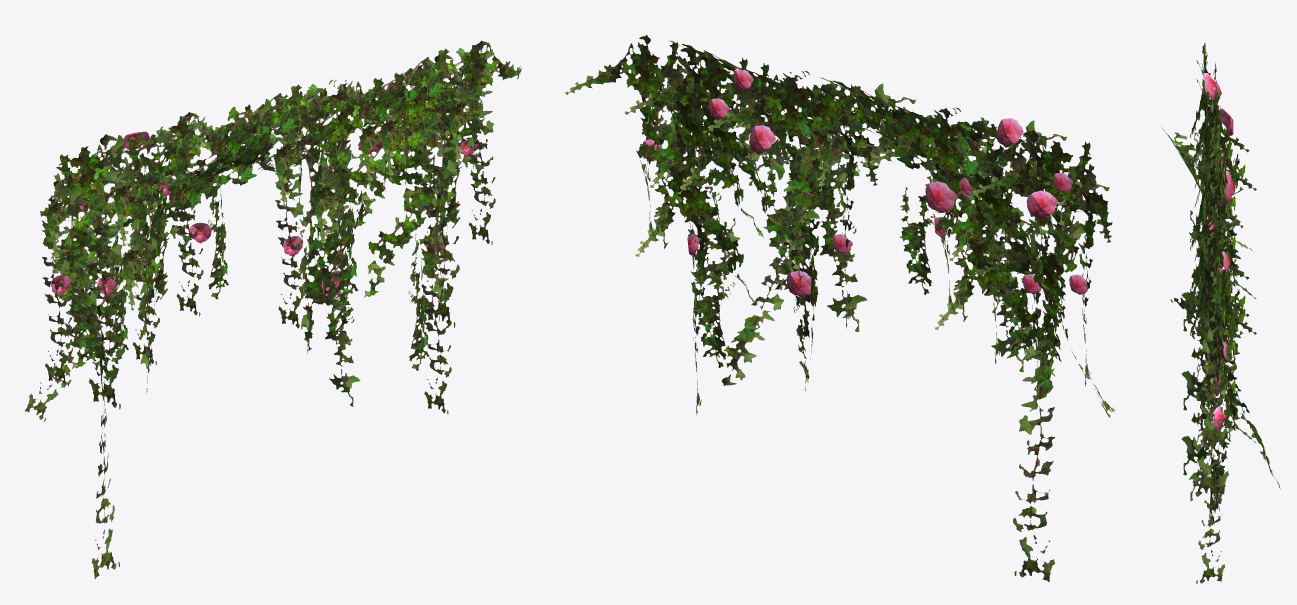
File: ivy03_lod0.dae
3 views of the same model, side by side, from view 1: azimuth 30°, elevation 25°; view 2: azimuth 150°, elevation 25°; view 3: azimuth 270°, elevation 25° (orthographic). The views are drawn at different scales.
Visible parts, largest first — view 1: Default_Layer; view 2: Default_Layer; view 3: Default_Layer.
Boxes of the visible parts, x1,y1,x2,y2 form: Default_Layer: [25, 40, 521, 578]; Default_Layer: [565, 34, 1115, 581]; Default_Layer: [1162, 42, 1280, 583].
Bounding box in the file's own units: 2.4 × 2.03 × 0.5213.
